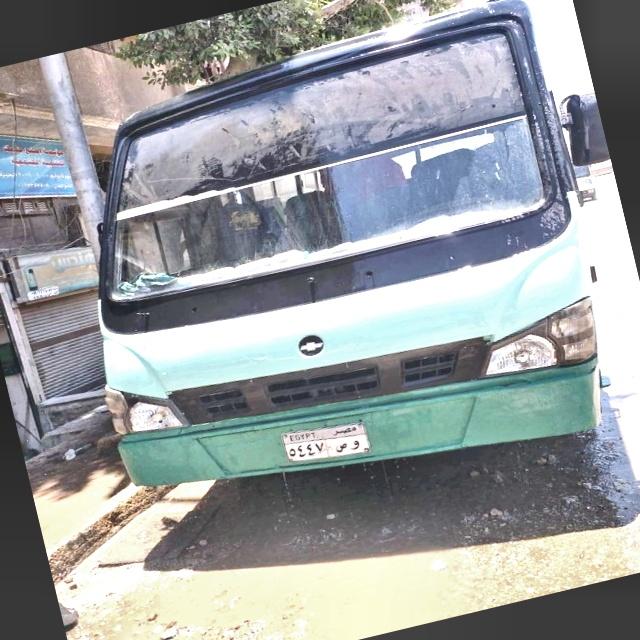License Plate: (278, 412, 377, 473)
